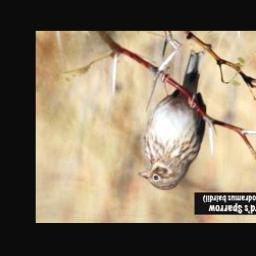Sparrow: (137, 48, 211, 194)
